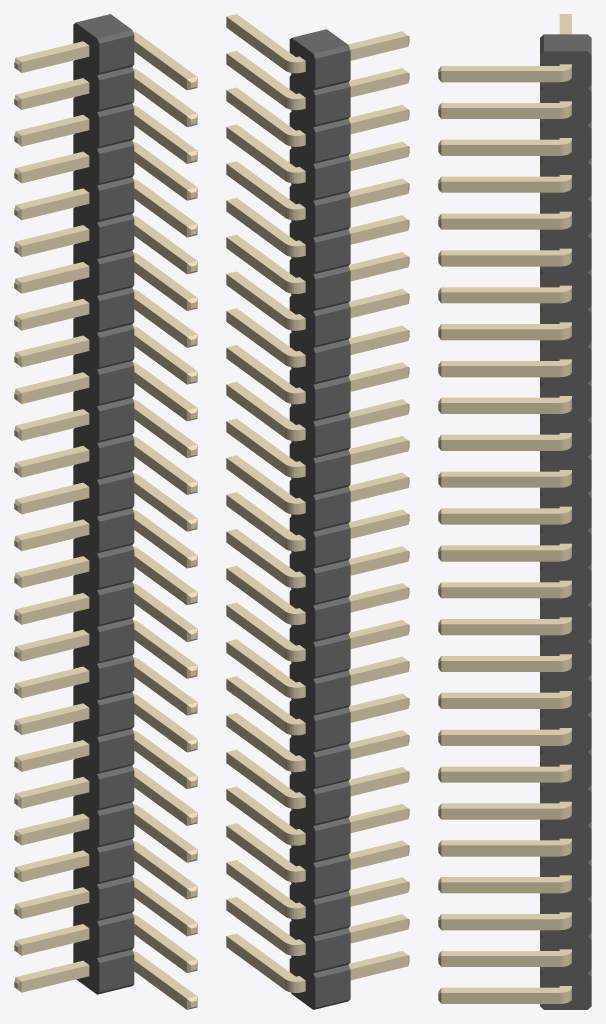
File: PinHeader_1x26_P1.00mm_Horizontal.glb
3 renders of one model, left to right at view 1: azimuth 30°, elevation 25°; view 2: azimuth 210°, elevation 25°; view 3: azimuth 270°, elevation 25°, orthographic.
Visible parts, largest first — view 1: Shape_IndexedFaceSet.004, Shape_IndexedFaceSet.028, Shape_IndexedFaceSet.076, Shape_IndexedFaceSet.130, Shape_IndexedFaceSet.136, Shape_IndexedFaceSet.016, Shape_IndexedFaceSet.034, Shape_IndexedFaceSet.046, Shape_IndexedFaceSet.058, Shape_IndexedFaceSet.070, Shape_IndexedFaceSet.082, Shape_IndexedFaceSet.088 (+120 smaller); view 2: Shape_IndexedFaceSet.003, Shape_IndexedFaceSet.019, Shape_IndexedFaceSet.025, Shape_IndexedFaceSet.031, Shape_IndexedFaceSet.037, Shape_IndexedFaceSet.061, Shape_IndexedFaceSet.073, Shape_IndexedFaceSet.079, Shape_IndexedFaceSet.115, Shape_IndexedFaceSet.121, Shape_IndexedFaceSet.133, Shape_IndexedFaceSet.157 (+94 smaller); view 3: Shape_IndexedFaceSet.003, Shape_IndexedFaceSet.370, Shape_IndexedFaceSet.375, Shape_IndexedFaceSet.389, Shape_IndexedFaceSet.399, Shape_IndexedFaceSet.414, Shape_IndexedFaceSet.419, Shape_IndexedFaceSet.424, Shape_IndexedFaceSet.429, Shape_IndexedFaceSet.435, Shape_IndexedFaceSet.439, Shape_IndexedFaceSet.445 (+42 smaller).
Boxes of the visible parts, left/top/right/bottom form: Shape_IndexedFaceSet.004: left=73, top=23, right=99, bottom=994; Shape_IndexedFaceSet.028: left=99, top=182, right=134, bottom=219; Shape_IndexedFaceSet.076: left=99, top=476, right=134, bottom=514; Shape_IndexedFaceSet.130: left=99, top=807, right=134, bottom=845; Shape_IndexedFaceSet.136: left=99, top=844, right=134, bottom=881; Shape_IndexedFaceSet.016: left=99, top=109, right=134, bottom=146; Shape_IndexedFaceSet.034: left=99, top=219, right=134, bottom=256; Shape_IndexedFaceSet.046: left=99, top=292, right=134, bottom=330; Shape_IndexedFaceSet.058: left=99, top=366, right=134, bottom=403; Shape_IndexedFaceSet.070: left=99, top=440, right=134, bottom=477; Shape_IndexedFaceSet.082: left=99, top=513, right=134, bottom=550; Shape_IndexedFaceSet.088: left=99, top=550, right=134, bottom=587; Shape_IndexedFaceSet.003: left=289, top=38, right=315, bottom=1009; Shape_IndexedFaceSet.019: left=315, top=124, right=350, bottom=161; Shape_IndexedFaceSet.025: left=315, top=160, right=350, bottom=198; Shape_IndexedFaceSet.031: left=315, top=197, right=350, bottom=235; Shape_IndexedFaceSet.037: left=315, top=234, right=350, bottom=271; Shape_IndexedFaceSet.061: left=315, top=381, right=350, bottom=419; Shape_IndexedFaceSet.073: left=315, top=455, right=350, bottom=492; Shape_IndexedFaceSet.079: left=315, top=491, right=350, bottom=529; Shape_IndexedFaceSet.115: left=315, top=712, right=350, bottom=750; Shape_IndexedFaceSet.121: left=315, top=749, right=350, bottom=786; Shape_IndexedFaceSet.133: left=315, top=822, right=350, bottom=860; Shape_IndexedFaceSet.157: left=315, top=970, right=350, bottom=1007; Shape_IndexedFaceSet.003: left=540, top=51, right=591, bottom=1009; Shape_IndexedFaceSet.370: left=441, top=771, right=559, bottom=782; Shape_IndexedFaceSet.375: left=441, top=808, right=559, bottom=819; Shape_IndexedFaceSet.389: left=441, top=624, right=559, bottom=635; Shape_IndexedFaceSet.399: left=441, top=366, right=559, bottom=377; Shape_IndexedFaceSet.414: left=441, top=476, right=559, bottom=487; Shape_IndexedFaceSet.419: left=441, top=587, right=559, bottom=598; Shape_IndexedFaceSet.424: left=441, top=550, right=559, bottom=561; Shape_IndexedFaceSet.429: left=441, top=513, right=559, bottom=524; Shape_IndexedFaceSet.435: left=441, top=329, right=559, bottom=340; Shape_IndexedFaceSet.439: left=441, top=292, right=559, bottom=303; Shape_IndexedFaceSet.445: left=441, top=882, right=559, bottom=893.
Size of the model in its own units: 1.34 by 10.24 by 1.48.
